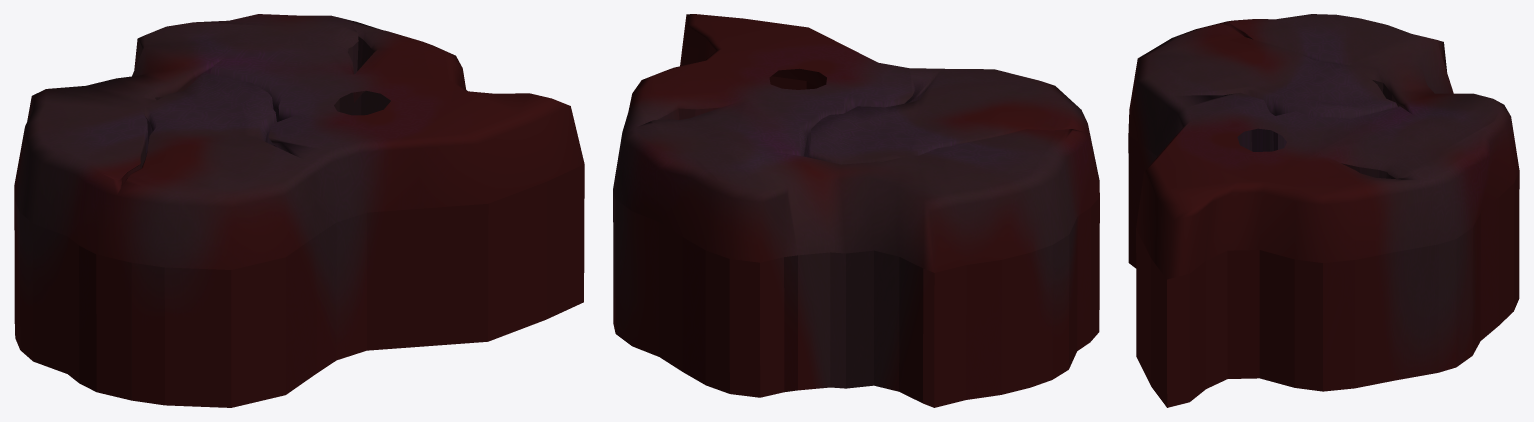
Rendered from nEWpLAT.fbx.
3 renders of one model, left to right at view 1: azimuth 30°, elevation 25°; view 2: azimuth 150°, elevation 25°; view 3: azimuth 270°, elevation 25°, orthographic. The views are drawn at different scales.
Parts seen in each view (by area): view 1: PlayablePlatform1; view 2: PlayablePlatform1; view 3: PlayablePlatform1.
Boxes of the visible parts, bbox=[...] form: PlayablePlatform1: bbox=[14, 14, 584, 407]; PlayablePlatform1: bbox=[613, 14, 1099, 407]; PlayablePlatform1: bbox=[1128, 14, 1519, 407].
Bounding box in the file's own units: 2143 × 915 × 1641.
